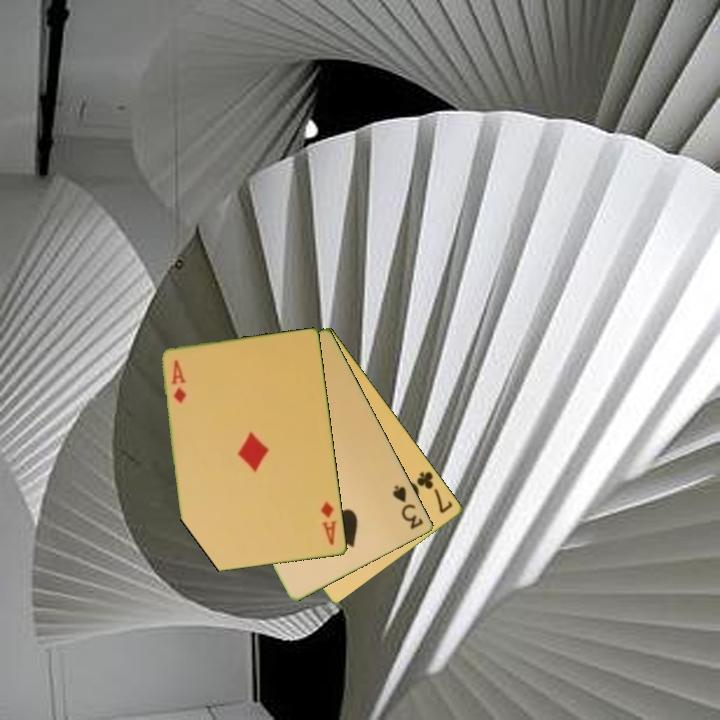3s: (389, 482, 427, 532)
7c: (413, 467, 456, 517)
Ad: (317, 498, 340, 548), (168, 356, 189, 406)
